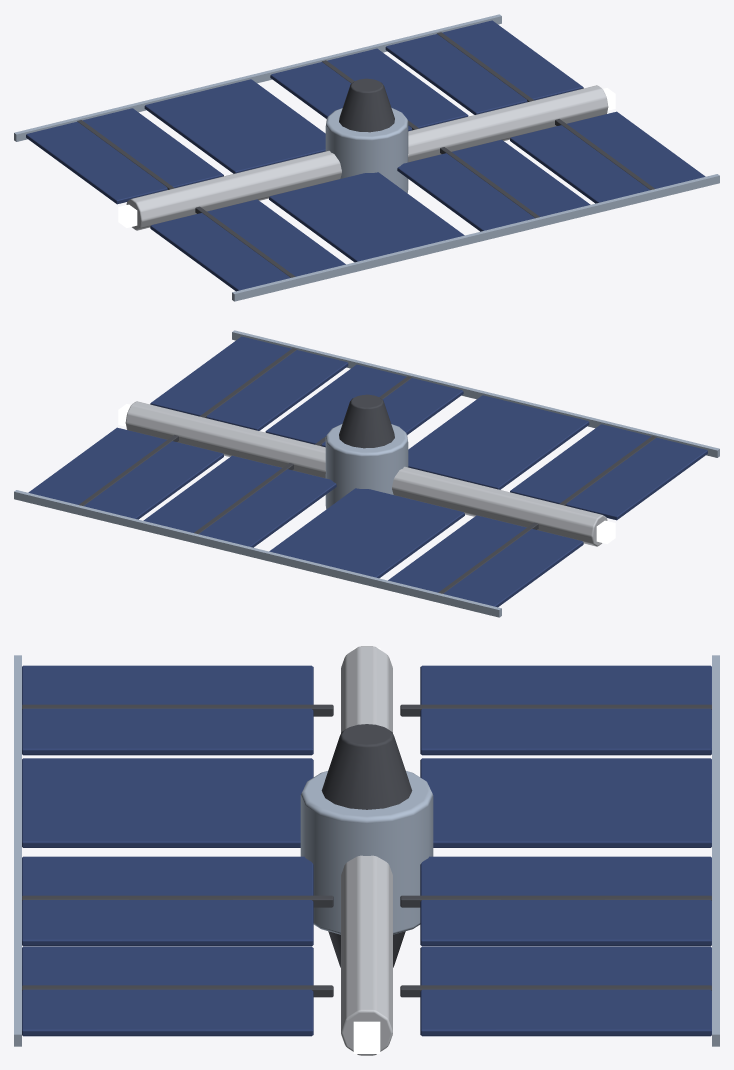
The model's file is solar.glb.
3 views of the same model, one above another, from view 1: azimuth 30°, elevation 25°; view 2: azimuth 150°, elevation 25°; view 3: azimuth 270°, elevation 25° (orthographic). The views are drawn at different scales.
Visible parts, largest first — view 1: solar; view 2: solar; view 3: solar.
Boxes of the visible parts, <box> form: solar: <box>14,14,719,301</box>; solar: <box>14,330,719,617</box>; solar: <box>14,646,719,1055</box>.
Size of the model in its own units: 1.36 by 0.388 by 1.06.
